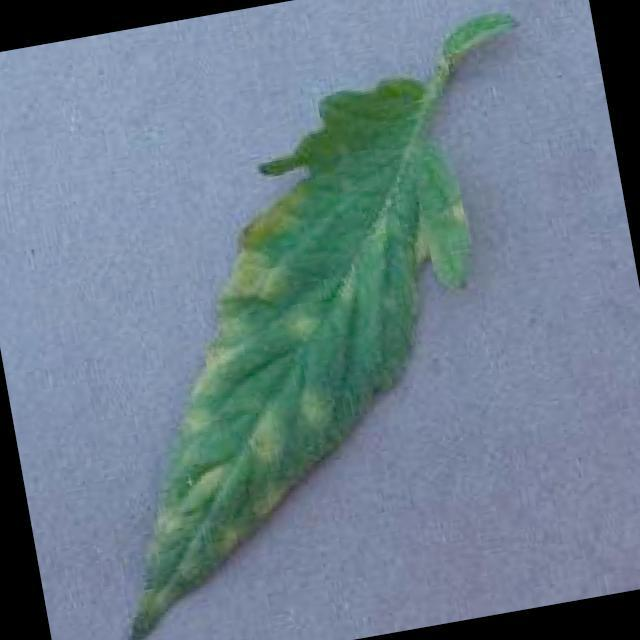Tomato mold leaf: (38, 73, 534, 640)
